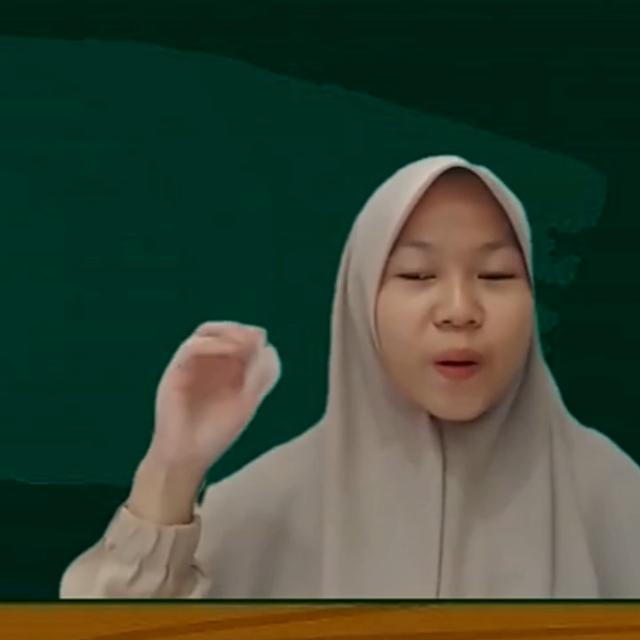O: (144, 318, 282, 468)
